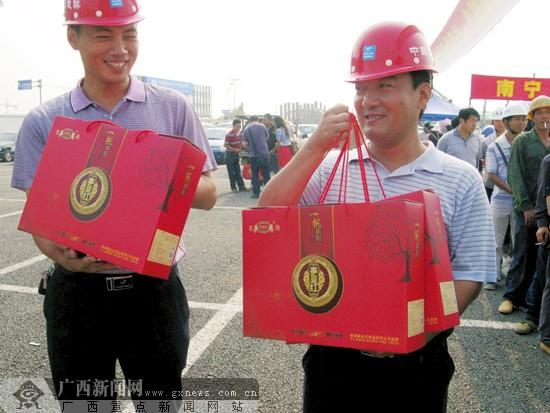helmet: (347, 23, 432, 80), (55, 1, 146, 29)
